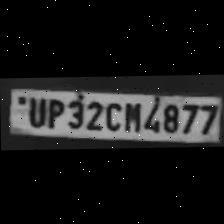2: (82, 98, 102, 130)
3: (62, 94, 84, 128)
4: (140, 98, 160, 133)
7: (194, 100, 218, 134), (178, 100, 198, 134)
8: (158, 100, 180, 132)
C: (101, 98, 121, 130)
M: (120, 98, 140, 132)
P: (42, 95, 64, 127)
U: (21, 94, 45, 128)
